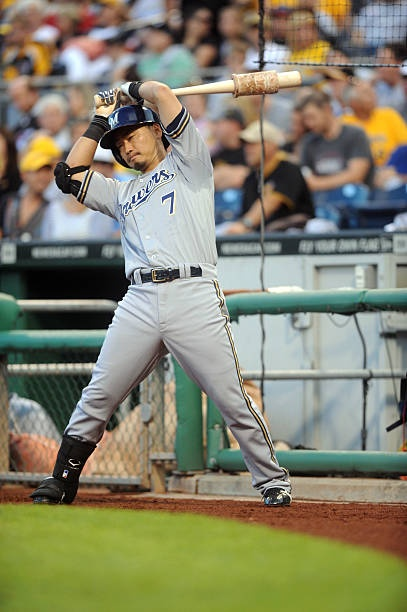bita: (112, 70, 313, 103)
